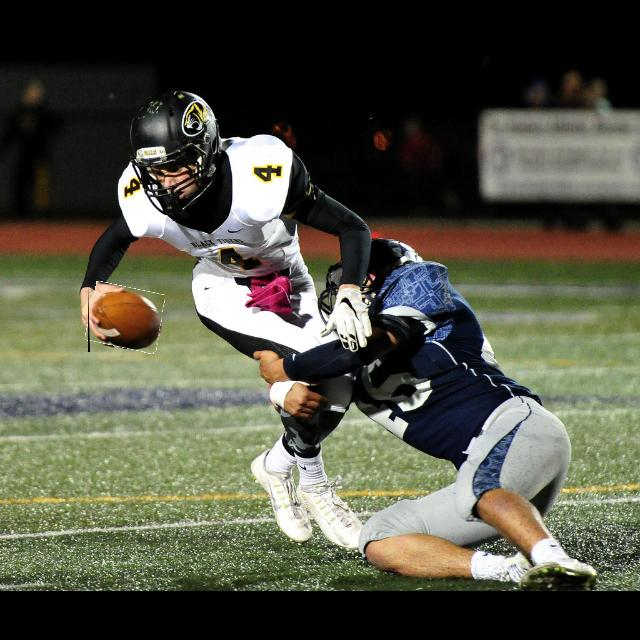Football: (88, 284, 162, 352)
